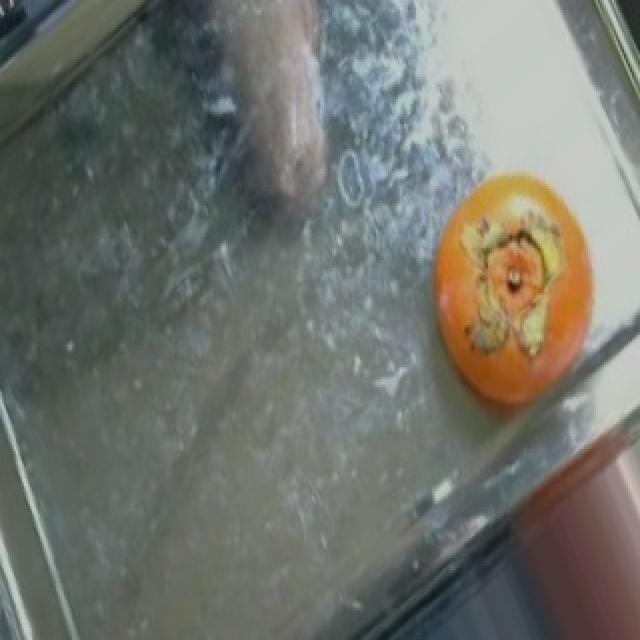Fruit: (410, 148, 620, 432)
